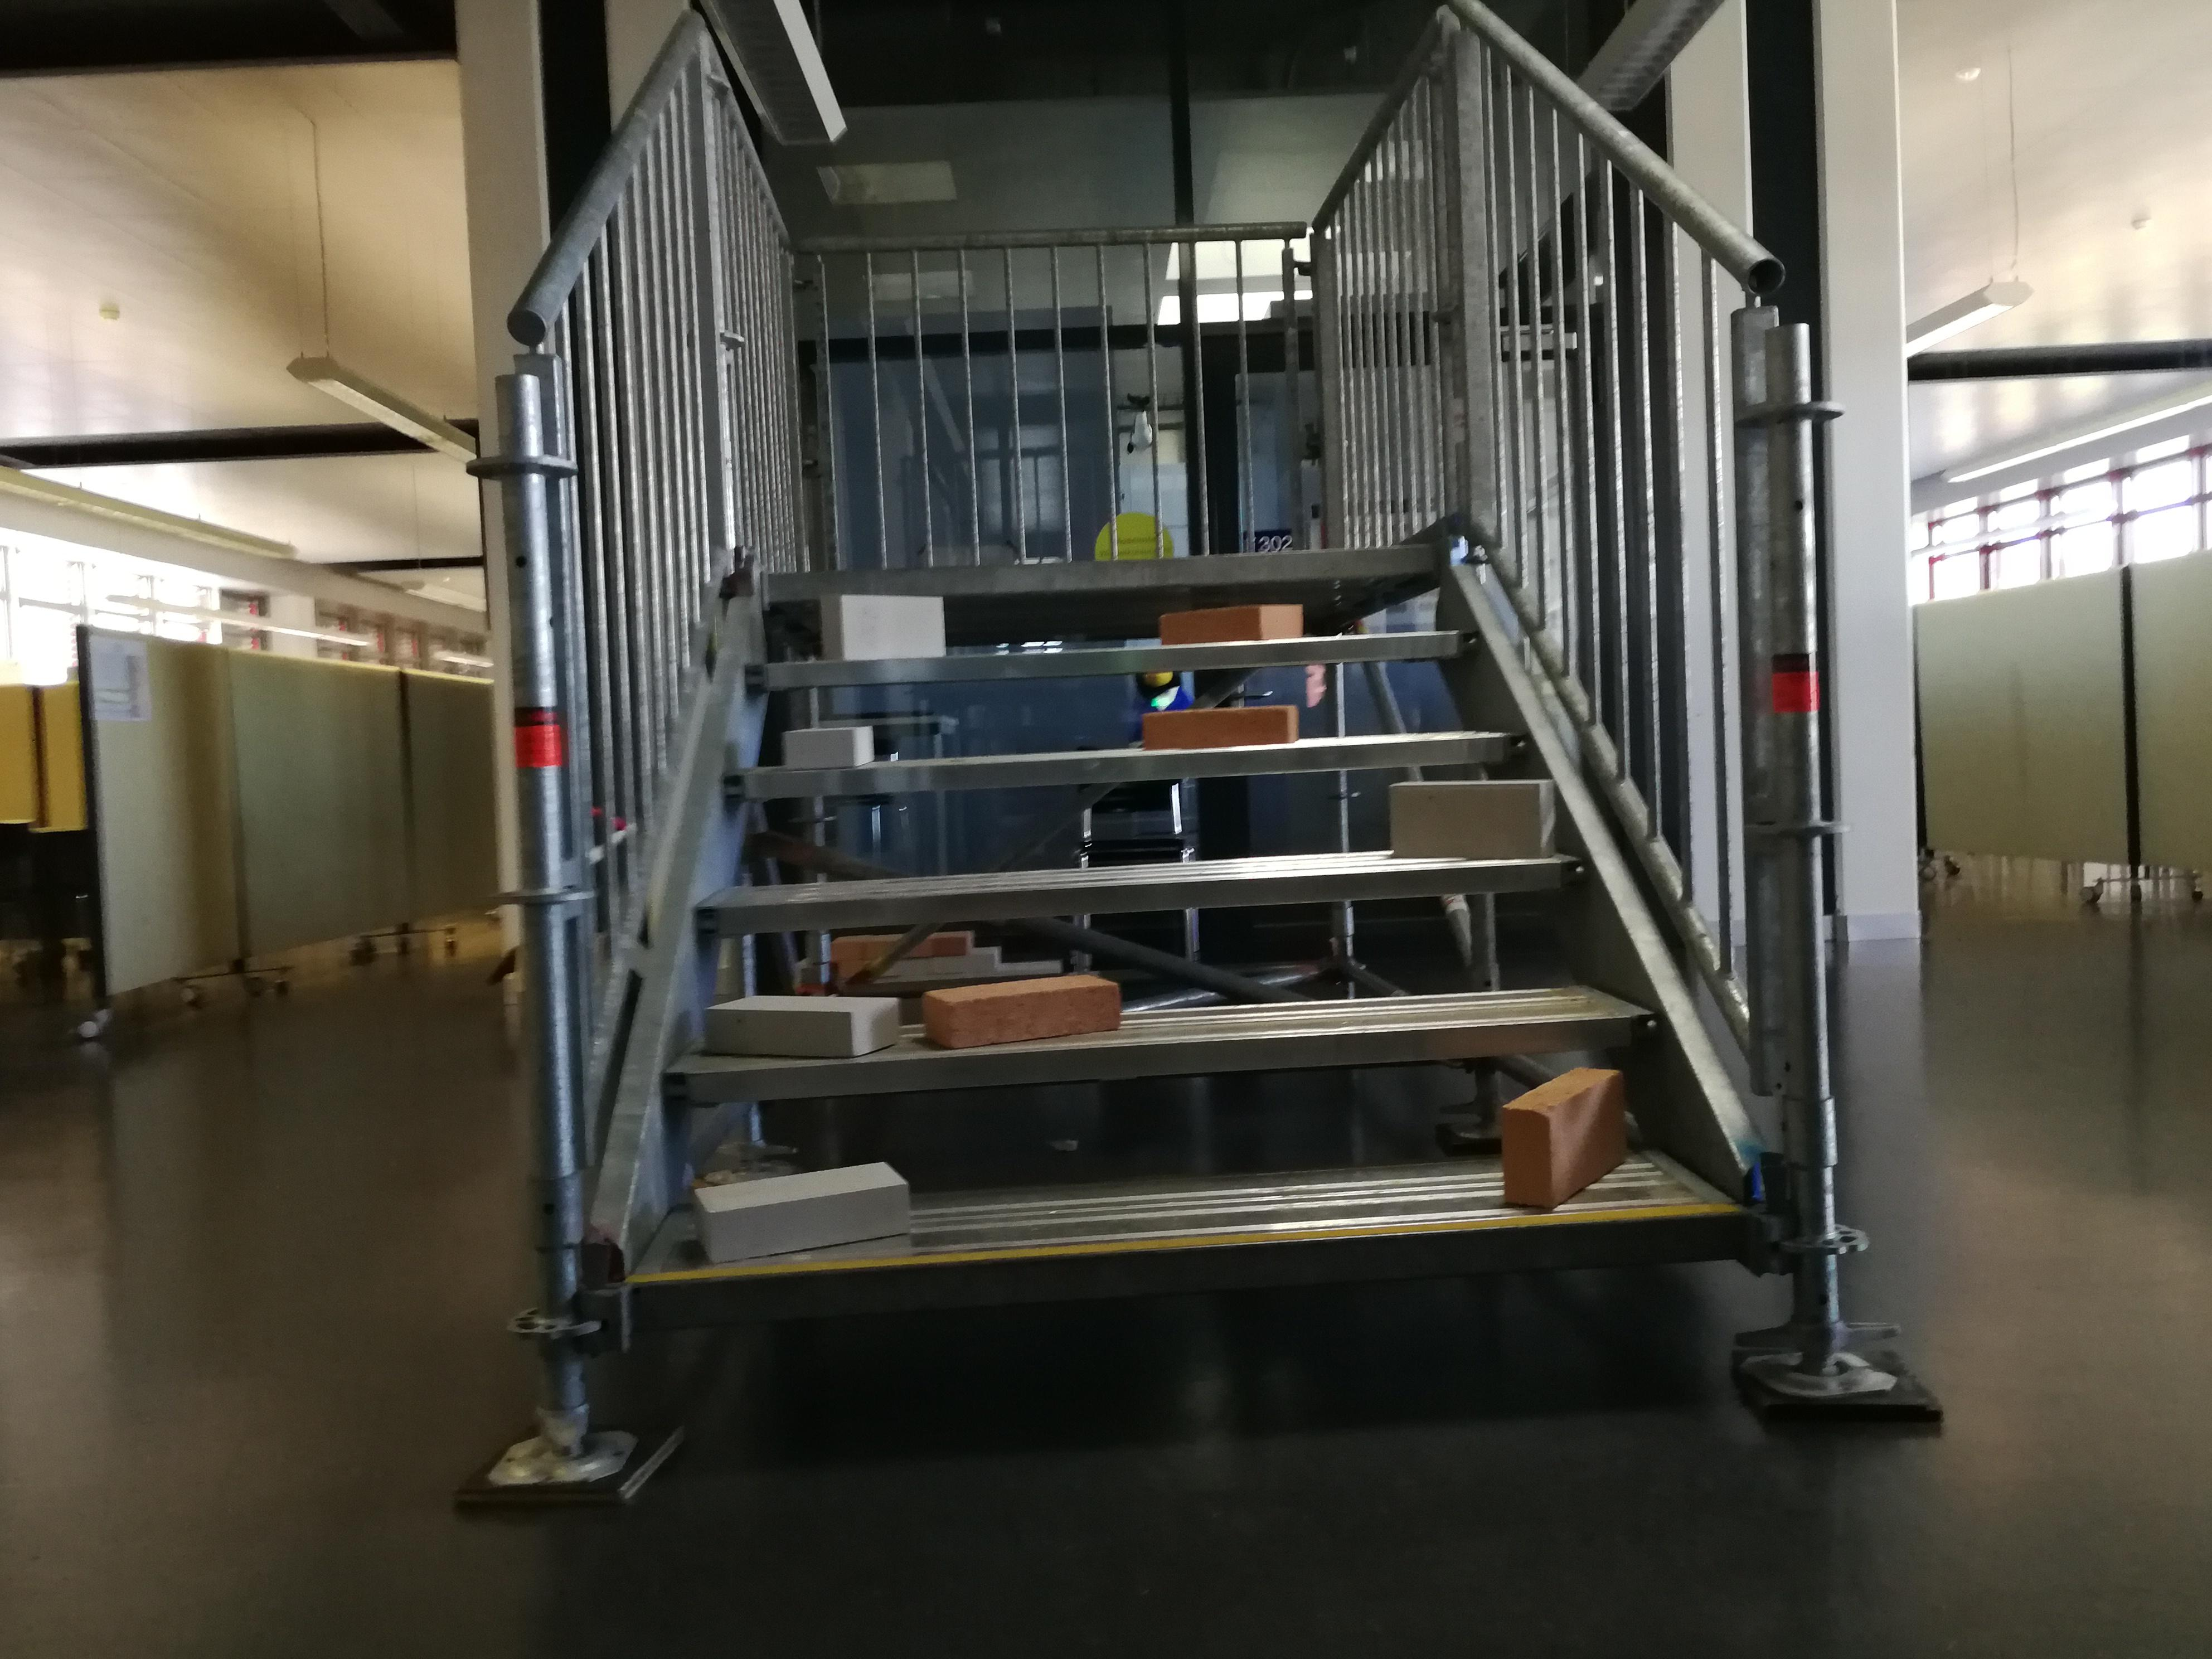brick: (690, 1161, 911, 1267), (1505, 1072, 1623, 1209), (928, 974, 1116, 1053), (705, 990, 900, 1056), (1390, 781, 1552, 859), (824, 596, 941, 655), (1144, 706, 1296, 748), (1162, 606, 1301, 641), (782, 725, 871, 763)
edge: (627, 1206, 1740, 1330), (664, 1016, 1663, 1100), (697, 857, 1594, 932), (721, 730, 1527, 798), (763, 545, 1435, 603), (744, 633, 1482, 685)
stairs: (448, 0, 1944, 1511)
steps: (611, 521, 1757, 1361)
